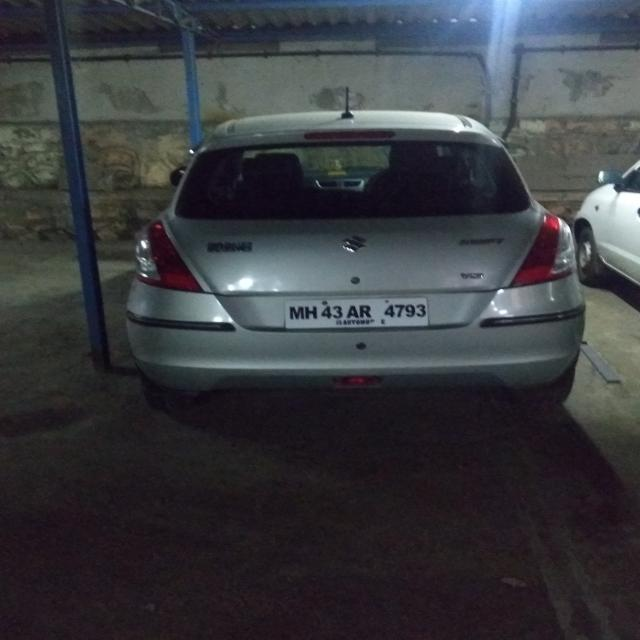Number-Plate: (287, 297, 432, 328)
